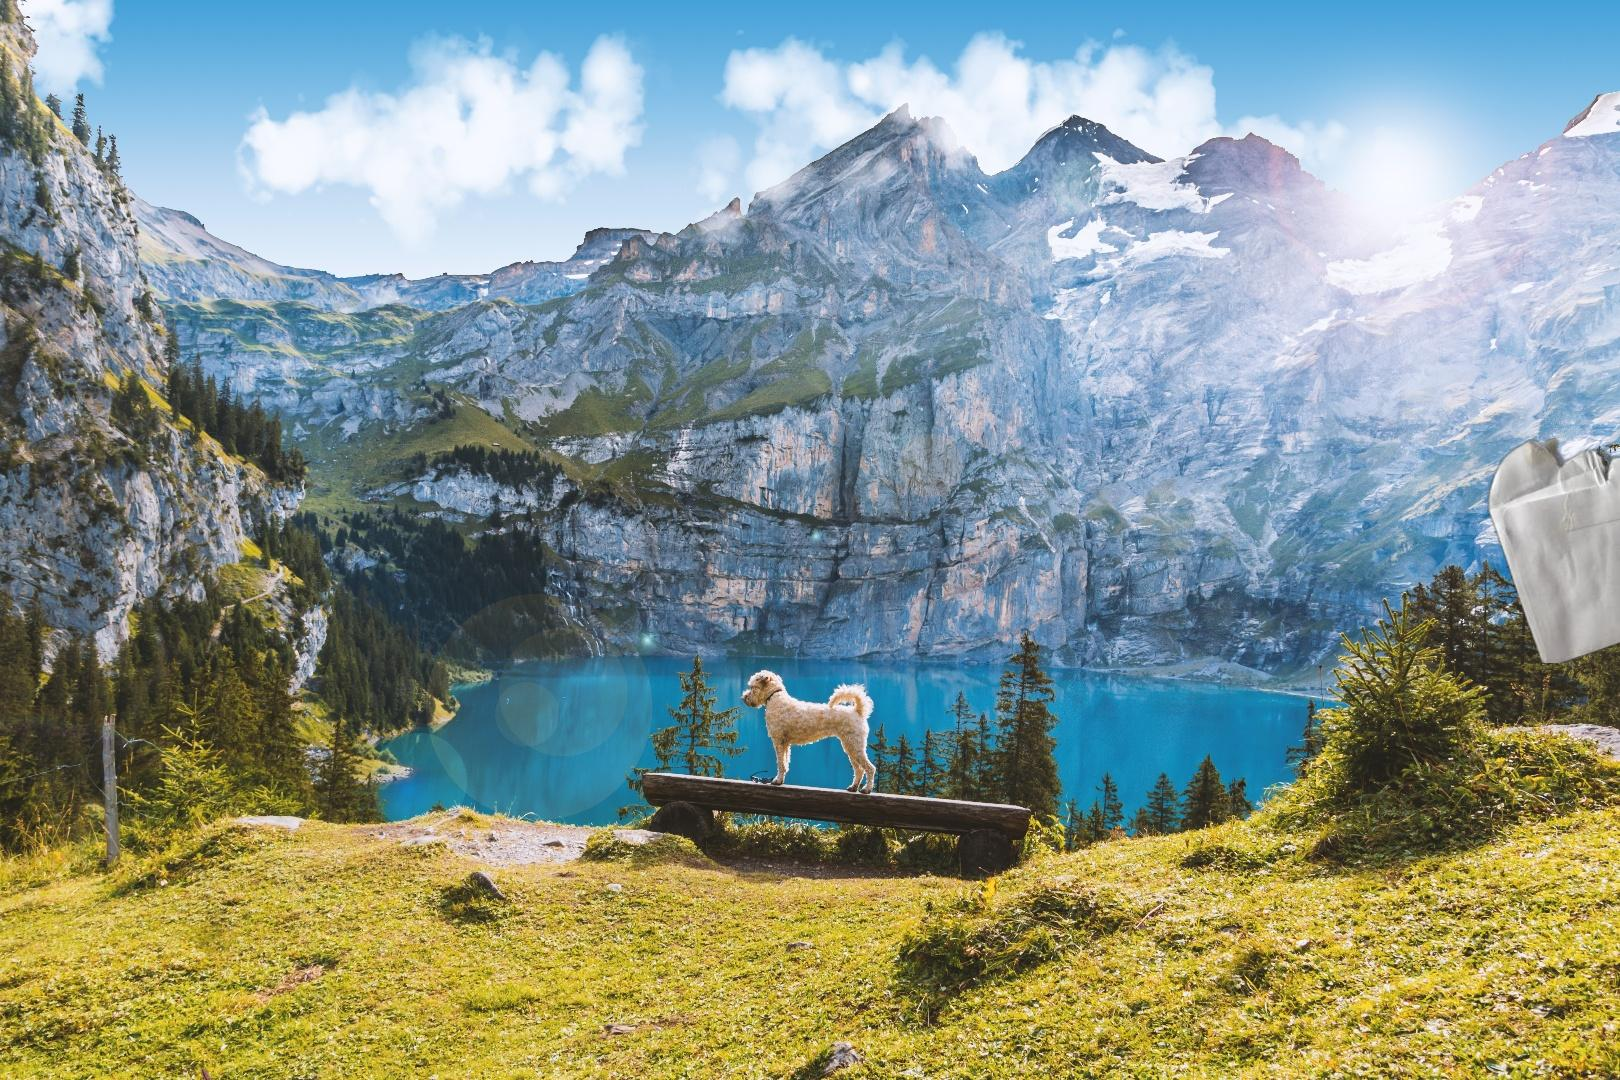clothes: (74, 1064, 340, 1080)
paper: (1485, 339, 1620, 663)
